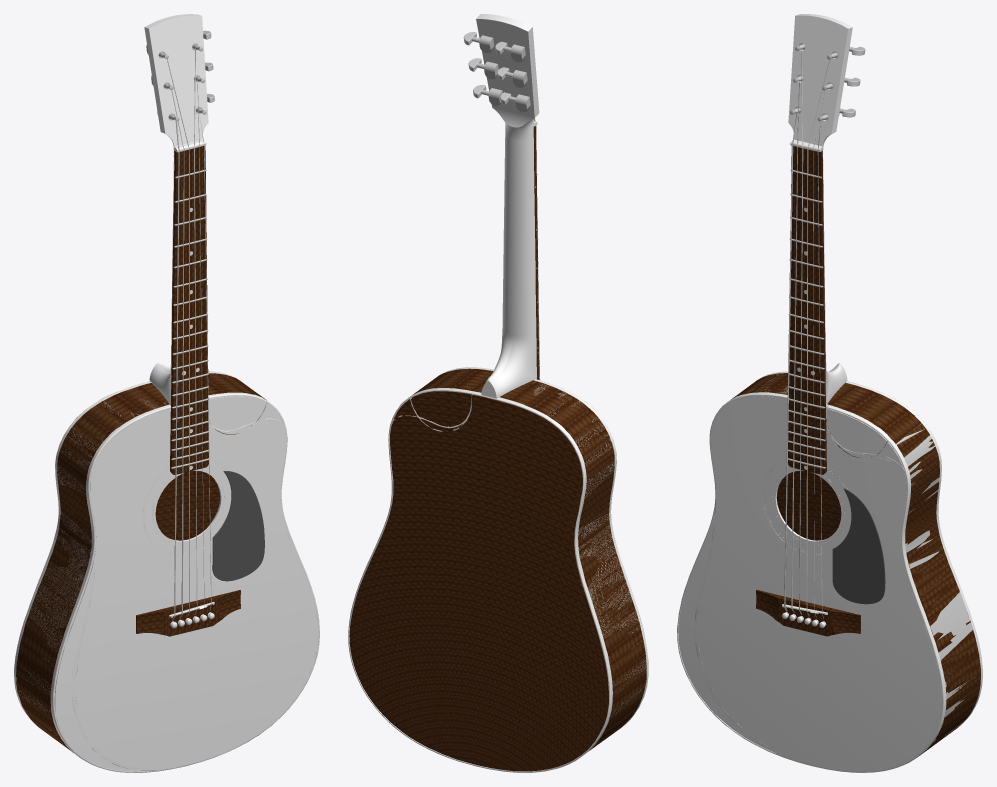
Rendered from luth-guitar-transformed.glb.
3 renders of one model, left to right at view 1: azimuth 30°, elevation 25°; view 2: azimuth 150°, elevation 25°; view 3: azimuth 330°, elevation 25°, orthographic.
Parts seen in each view (by area): view 1: Body_Soundboard_Arm_Bevel_Cutaway_Venetian, Body_Fretboard, Body_Soundboard_Venetian_Cutaway, Body_Soundboard_Arm_Bevel, Body_Sides, Body_Sides_Arm_Bevel, Body_Soundboard_Arm_Bevel_Cutaway_Florentine, Body_Headstock, Body_Soundboard, Body_Pickguard, Body_Back, Body_Bridge (+16 smaller); view 2: Body_Back, Body_Back_Venetian_Cutaway, Body_Back_Florentine_Cutaway, Body_Sides, Body_Sides_Arm_Bevel, Surface_Neck_Profile, Body_Headstock, Body_Binding_Bottom, Body_Sides_Scalloped_Cutaway (1), Body_Heel, Body_Sides_Arm_Bevel_Florentine_Cutaway, Body_Binding_Bottom_Florentine_Cutaway (+4 smaller); view 3: Body_Soundboard_Arm_Bevel_Cutaway_Venetian, Body_Fretboard, Body_Soundboard_Arm_Bevel, Body_Soundboard_Venetian_Cutaway, Body_Soundboard_Arm_Bevel_Cutaway_Florentine, Body_Headstock, Body_Soundboard, Body_Pickguard, Body_Back, Body_Sides_Scalloped_Cutaway (1), Body_Sides_Arm_Bevel_Florentine_Cutaway, Body_Sides_Arm_Bevel (+18 smaller).
Boxes of the visible parts, left/top/right/bottom form: Body_Soundboard_Arm_Bevel_Cutaway_Venetian: left=76, top=410, right=316, bottom=763; Body_Fretboard: left=170, top=145, right=208, bottom=474; Body_Soundboard_Venetian_Cutaway: left=54, top=420, right=318, bottom=770; Body_Soundboard_Arm_Bevel: left=75, top=395, right=317, bottom=766; Body_Sides: left=16, top=375, right=263, bottom=752; Body_Sides_Arm_Bevel: left=16, top=373, right=263, bottom=745; Body_Soundboard_Arm_Bevel_Cutaway_Florentine: left=76, top=407, right=318, bottom=747; Body_Headstock: left=144, top=14, right=208, bottom=162; Body_Soundboard: left=54, top=396, right=318, bottom=771; Body_Pickguard: left=212, top=471, right=264, bottom=581; Body_Back: left=155, top=471, right=220, bottom=540; Body_Bridge: left=136, top=590, right=240, bottom=636; Body_Back: left=349, top=391, right=608, bottom=771; Body_Back_Venetian_Cutaway: left=349, top=396, right=608, bottom=764; Body_Back_Florentine_Cutaway: left=349, top=399, right=608, bottom=771; Body_Sides: left=413, top=368, right=646, bottom=750; Body_Sides_Arm_Bevel: left=436, top=369, right=646, bottom=722; Surface_Neck_Profile: left=502, top=135, right=536, bottom=335; Body_Headstock: left=476, top=14, right=539, bottom=141; Body_Binding_Bottom: left=348, top=388, right=612, bottom=772; Body_Sides_Scalloped_Cutaway (1): left=423, top=373, right=646, bottom=747; Body_Heel: left=481, top=326, right=536, bottom=398; Body_Sides_Arm_Bevel_Florentine_Cutaway: left=533, top=381, right=645, bottom=718; Body_Binding_Bottom_Florentine_Cutaway: left=348, top=394, right=612, bottom=772; Body_Soundboard_Arm_Bevel_Cutaway_Venetian: left=699, top=398, right=940, bottom=769; Body_Fretboard: left=788, top=146, right=826, bottom=474; Body_Soundboard_Arm_Bevel: left=698, top=396, right=941, bottom=770; Body_Soundboard_Venetian_Cutaway: left=678, top=396, right=941, bottom=770; Body_Soundboard_Arm_Bevel_Cutaway_Florentine: left=700, top=397, right=941, bottom=770; Body_Headstock: left=788, top=14, right=852, bottom=161; Body_Soundboard: left=678, top=396, right=941, bottom=770; Body_Pickguard: left=832, top=488, right=885, bottom=604; Body_Back: left=776, top=470, right=841, bottom=540; Body_Sides_Scalloped_Cutaway (1): left=740, top=373, right=980, bottom=738; Body_Sides_Arm_Bevel_Florentine_Cutaway: left=749, top=374, right=974, bottom=741; Body_Sides_Arm_Bevel: left=731, top=373, right=980, bottom=754.
Bounding box in the file's own units: 0.3918 × 1.04 × 0.1269.
112 materials, 16 textured.
